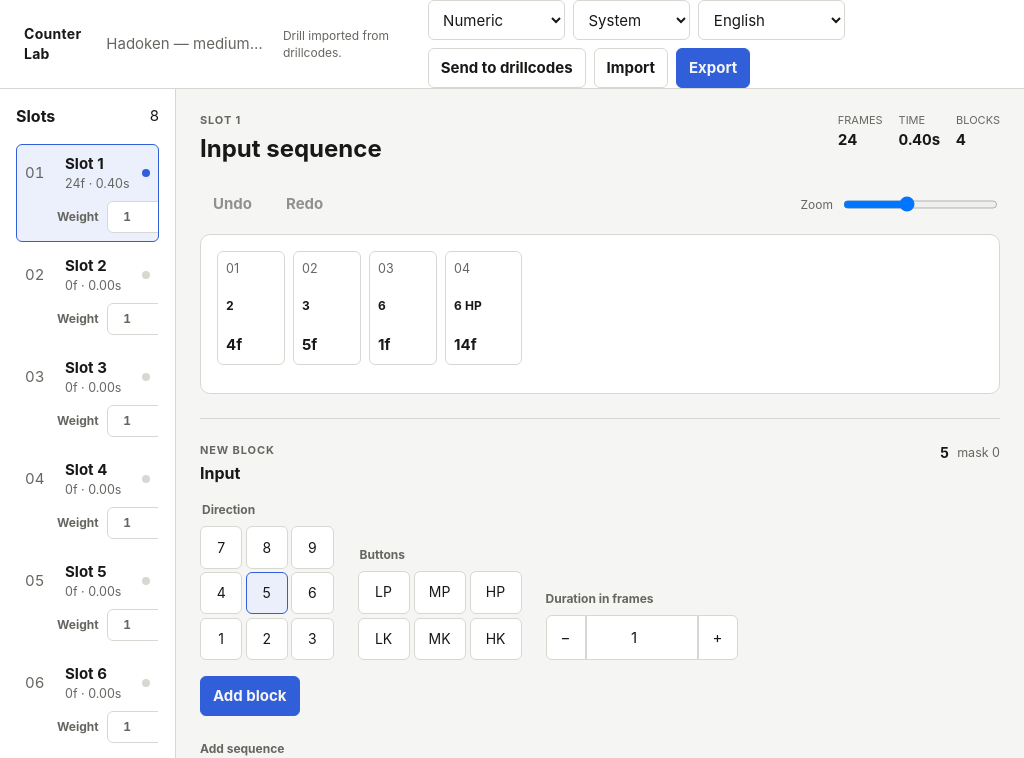
Scenario: App › imports from and exports to a trusted DrillCodes opener
Expected: the text "Drill imported from drillcodes." is shown, [283,28,389,60]
Expected: the button "Send to drillcodes" is shown, [428,48,586,88]
Select "Portuguese" in the 3rd dropdown named "Language" at (772, 20), box [698,0,845,40]
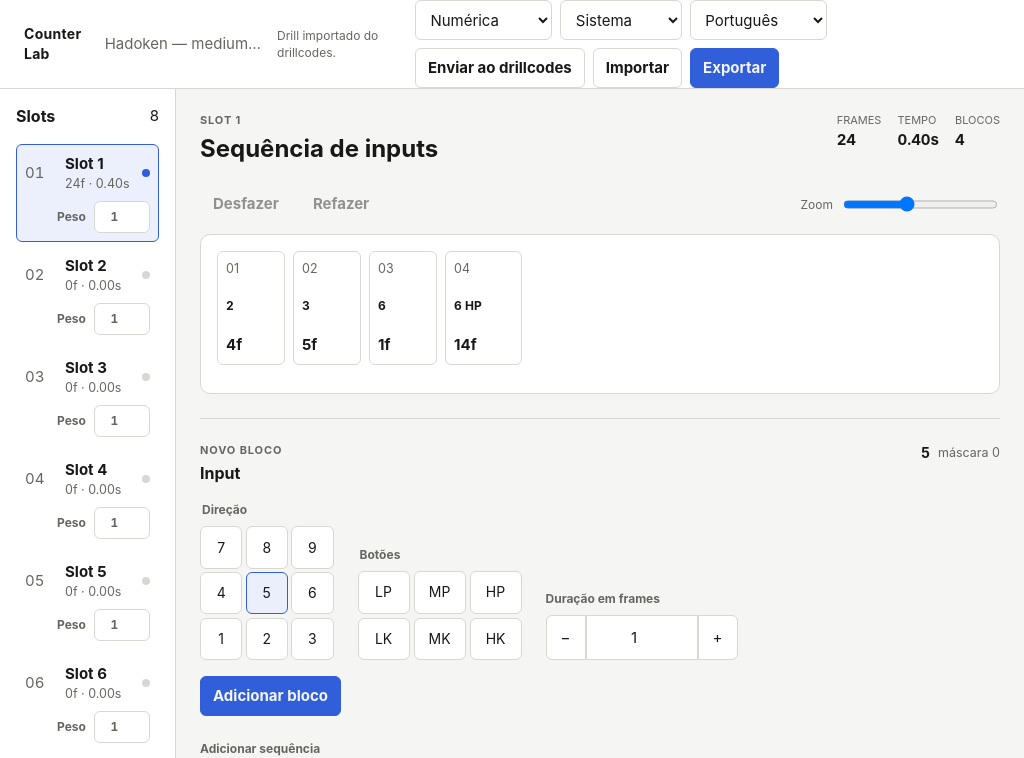
Click the button "Enviar ao drillcodes" at (500, 68), box [415,48,585,88]
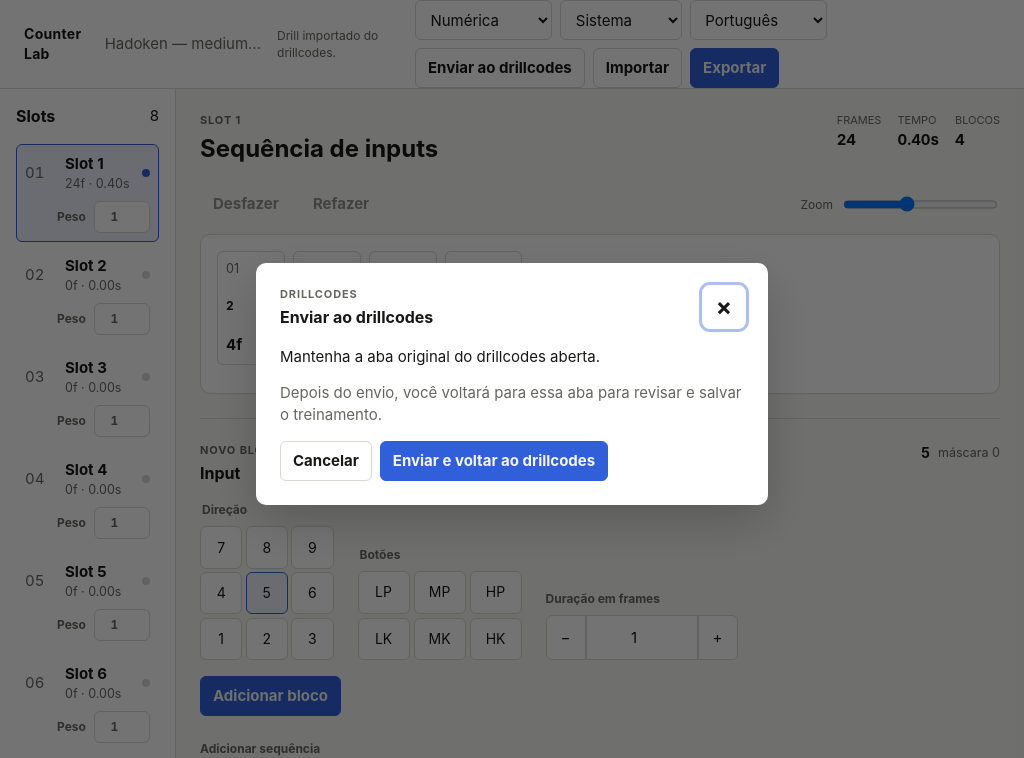
Expected: the dialog "Enviar ao drillcodes" is shown, [256,263,768,505]
Expected: the text "Mantenha a aba original do drillcodes aberta." is shown, [280,346,600,366]
Click the button "Enviar e voltar ao drillcodes" at (494, 461), box [380,441,608,481]
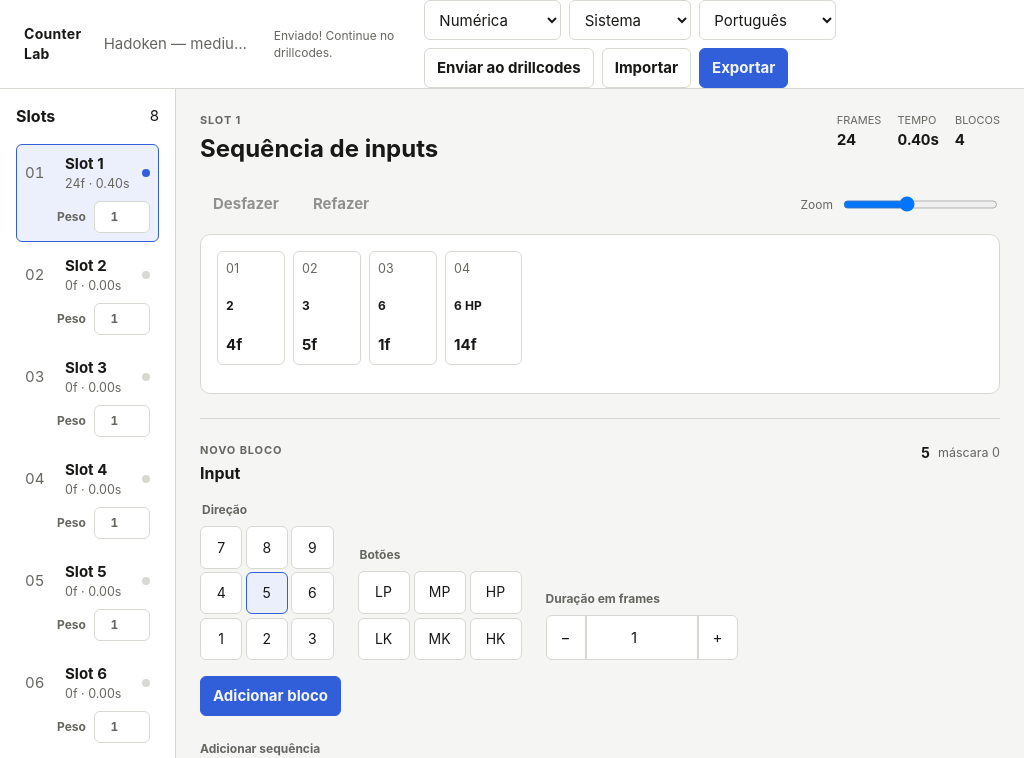
Expected: the text "Enviado! Continue no drillcodes." is shown, [274,27,408,61]
